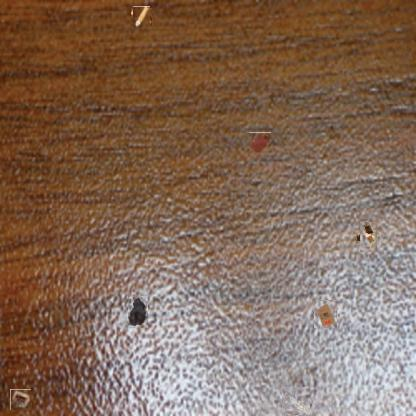dirty: (283, 388, 311, 416), (313, 300, 337, 328), (356, 225, 380, 249), (10, 389, 31, 410), (132, 7, 151, 27)
liquid: (128, 296, 148, 328), (249, 132, 271, 153)
